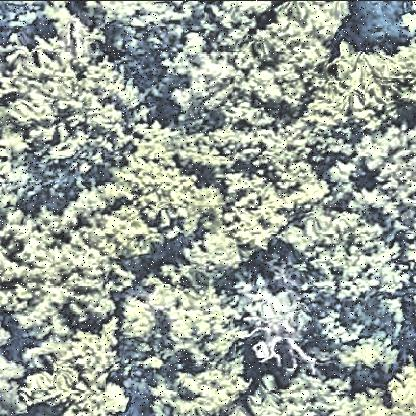tree-top: (10, 62, 141, 174), (275, 205, 401, 299), (309, 40, 416, 133), (9, 245, 121, 331), (145, 273, 239, 371), (29, 325, 130, 416), (235, 274, 313, 370), (218, 163, 284, 241), (153, 365, 246, 416), (83, 2, 177, 52), (173, 53, 242, 115), (130, 160, 190, 228), (336, 326, 400, 380), (180, 233, 239, 283)
